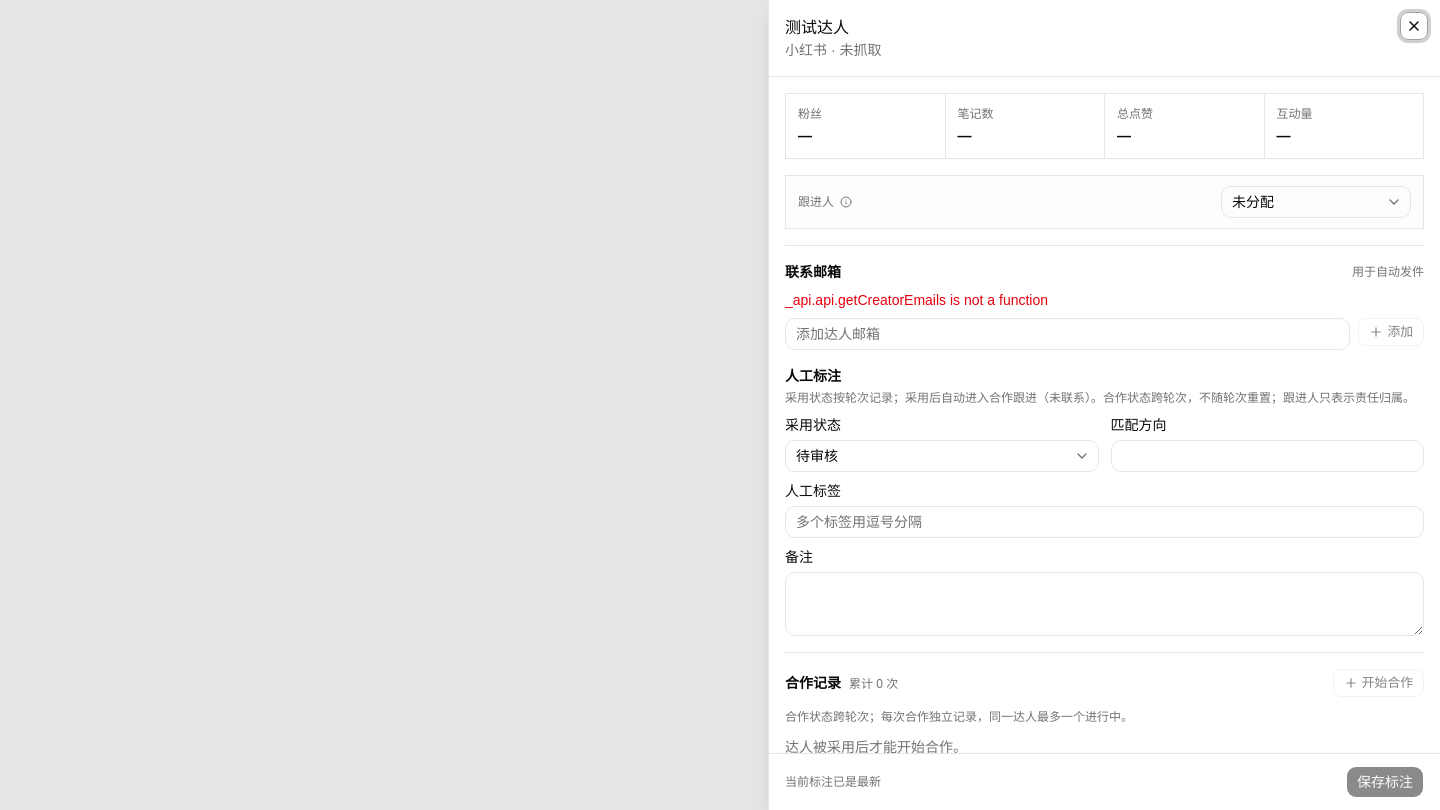
Test case: CreatorSheet › syncs auto-enrolled cooperation after saving review adoption
Click the dropdown named "采用状态". click: point(817, 456)
box: [785,440,1098,472]
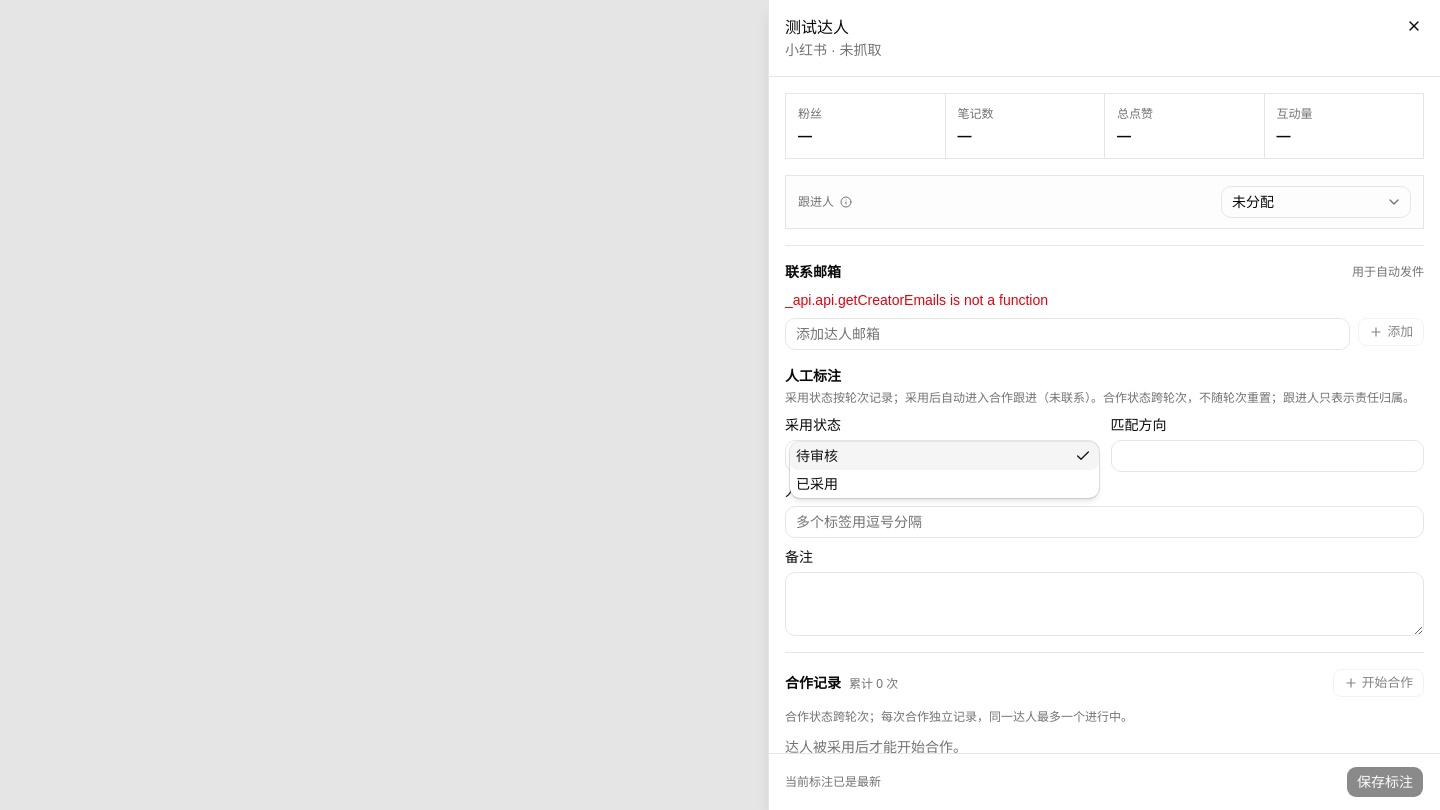
Click the option "已采用". click: point(817, 484)
box: [796,476,838,492]
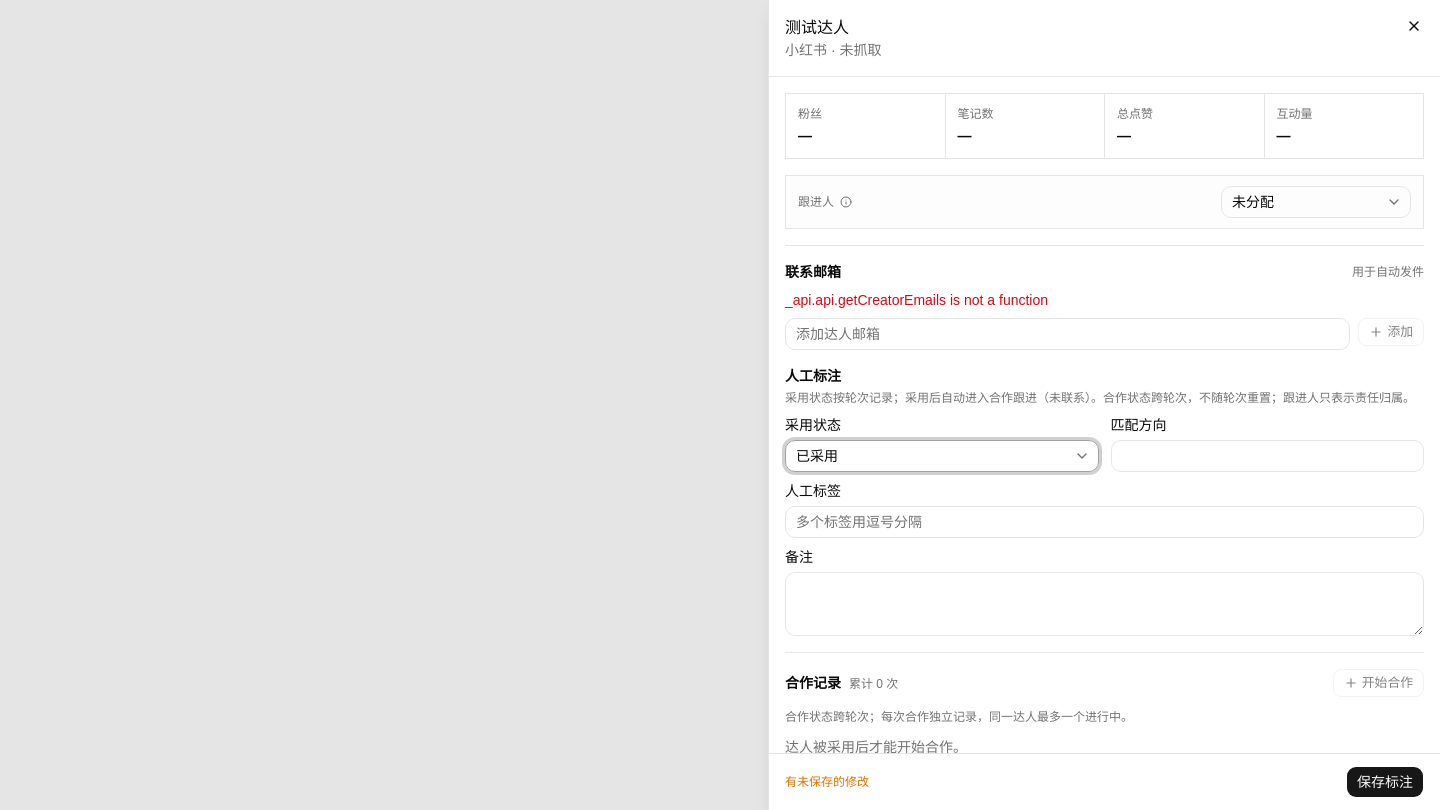
Click the button "保存标注". click: point(1385, 782)
box: [1346,766,1424,798]
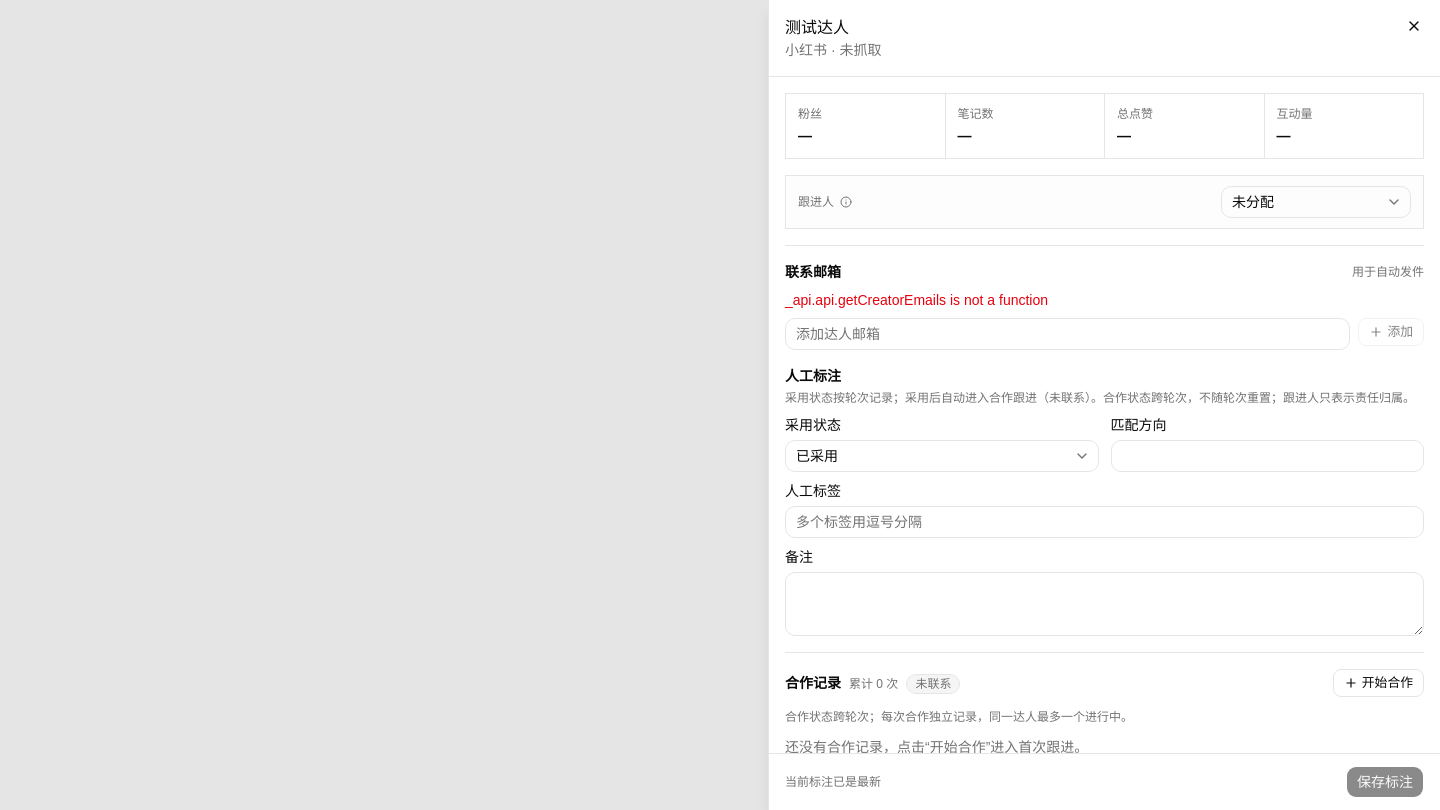
Expected: the button "保存标注" is disabled, [1346,766,1424,798]
Expected: the icon "未联系" is shown, [906,674,960,694]
